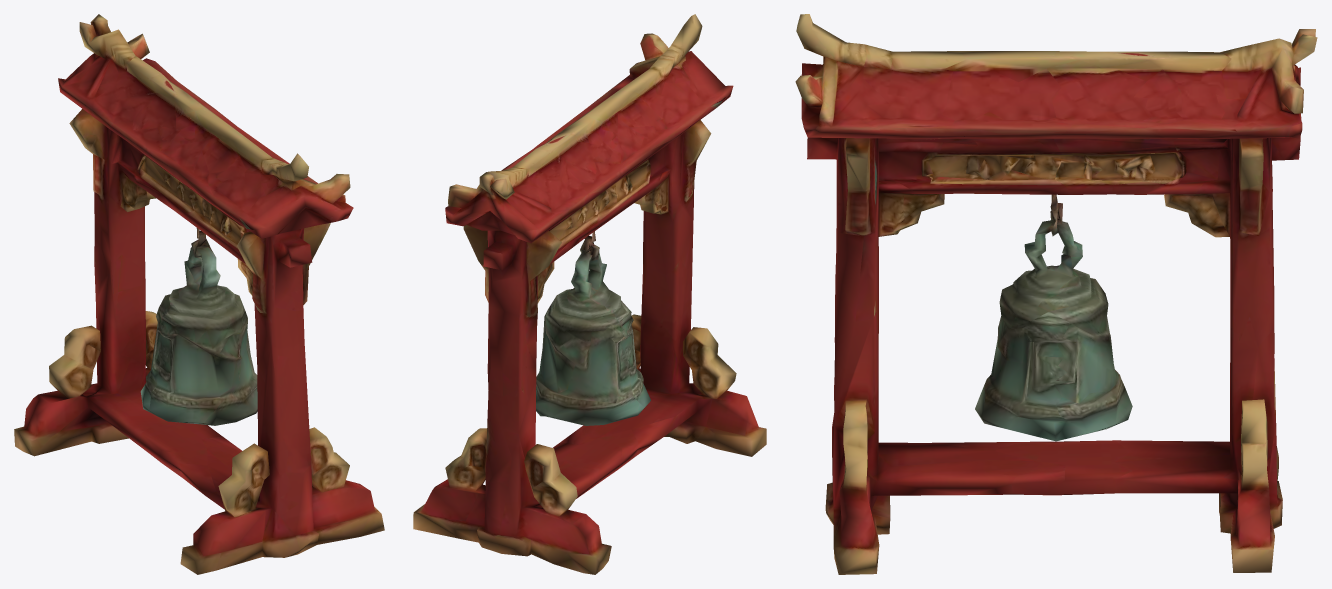
Rendered from bell.glb.
3 renders of one model, left to right at view 1: azimuth 30°, elevation 25°; view 2: azimuth 150°, elevation 25°; view 3: azimuth 270°, elevation 25°, orthographic. The views are drawn at different scales.
Parts seen in each view (by area): view 1: tripo_node_cbe6d2a5-9758-4215-a8e4-a60d0655ff4e; view 2: tripo_node_cbe6d2a5-9758-4215-a8e4-a60d0655ff4e; view 3: tripo_node_cbe6d2a5-9758-4215-a8e4-a60d0655ff4e.
Boxes of the visible parts, <box> form: tripo_node_cbe6d2a5-9758-4215-a8e4-a60d0655ff4e: <box>14,14,384,574</box>; tripo_node_cbe6d2a5-9758-4215-a8e4-a60d0655ff4e: <box>413,14,766,574</box>; tripo_node_cbe6d2a5-9758-4215-a8e4-a60d0655ff4e: <box>795,14,1317,574</box>.
Size of the model in its own units: 0.4183 by 0.85 by 0.8015.
Materials: 1 (1 with a texture image).
